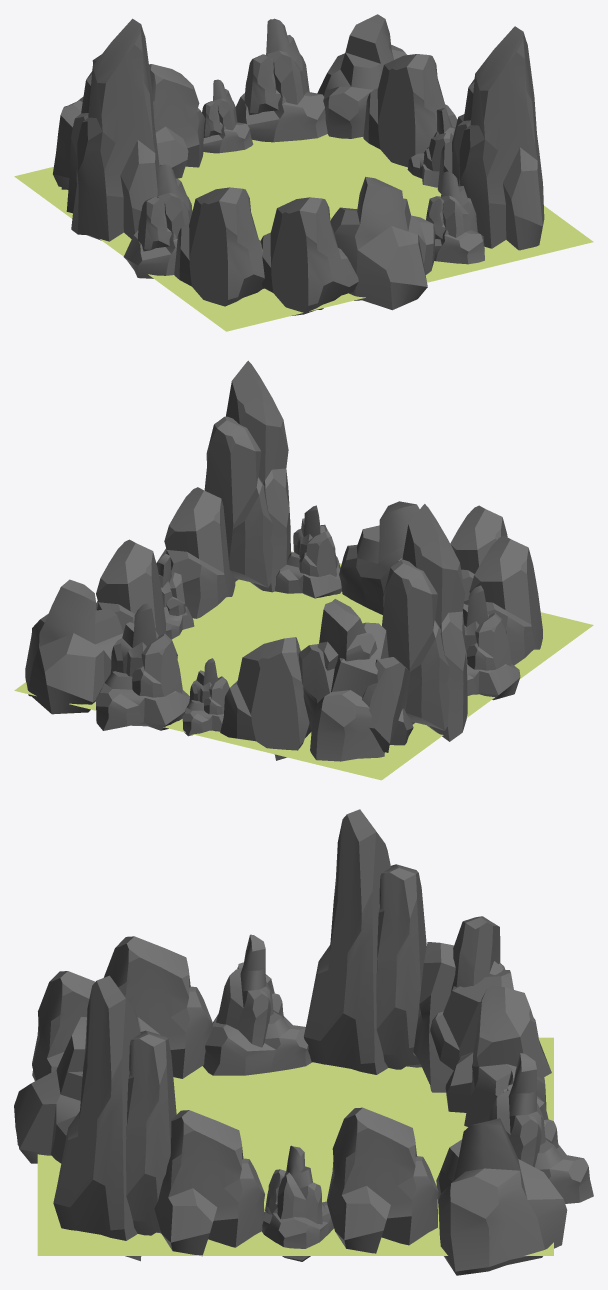
The model's file is ground.glb.
3 views of the same model, one above another, from view 1: azimuth 30°, elevation 25°; view 2: azimuth 150°, elevation 25°; view 3: azimuth 270°, elevation 25° (orthographic). The views are drawn at different scales.
Visible parts, largest first — view 1: Plane, Rock_4.001, Rock_4, Rock_2.001, Rock_1, Rock_1.003, Rock_5.005, Rock_1.002, Rock_2, Rock_1.001, Rock_5, Rock_5.001 (+4 smaller); view 2: Plane, Rock_4.001, Rock_4, Rock_3, Rock_2, Rock_5.005, Rock_1.001, Rock_1.004, Rock_1, Rock_2.001, Rock_5, Rock_1.002 (+4 smaller); view 3: Plane, Rock_4.001, Rock_4, Rock_2, Rock_1.002, Rock_1.004, Rock_3, Rock_5, Rock_1, Rock_1.001, Rock_5.005, Rock_2.001 (+2 smaller).
Boxes of the visible parts, box(x1,y1,x2,y2) form: Plane: box(14, 134, 593, 331); Rock_4.001: box(66, 18, 159, 241); Rock_4: box(452, 26, 544, 250); Rock_2.001: box(330, 176, 435, 310); Rock_1: box(174, 187, 264, 306); Rock_1.003: box(260, 197, 358, 315); Rock_5.005: box(235, 18, 327, 142); Rock_1.002: box(363, 54, 457, 167); Rock_2: box(317, 14, 406, 138); Rock_1.001: box(149, 64, 205, 178); Rock_5: box(123, 164, 192, 278); Rock_5.001: box(426, 171, 484, 264); Plane: box(14, 551, 593, 780); Rock_4.001: box(382, 504, 467, 741); Rock_4: box(204, 360, 290, 592); Rock_3: box(298, 599, 413, 761); Rock_2: box(25, 579, 123, 714); Rock_5.005: box(96, 602, 189, 730); Rock_1.001: box(220, 637, 311, 760); Rock_1.004: box(156, 487, 235, 618); Rock_1: box(467, 535, 542, 665); Rock_2.001: box(339, 501, 419, 614); Rock_5: box(463, 585, 520, 700); Rock_1.002: box(95, 539, 166, 635); Plane: box(37, 1037, 553, 1255); Rock_4.001: box(303, 809, 426, 1074); Rock_4: box(53, 975, 176, 1261); Rock_2: box(436, 1118, 567, 1275); Rock_1.002: box(327, 1107, 438, 1253); Rock_1.004: box(154, 1110, 264, 1256); Rock_3: box(413, 916, 551, 1092); Rock_5: box(203, 934, 312, 1075); Rock_1: box(104, 936, 212, 1078); Rock_1.001: box(445, 985, 546, 1126); Rock_5.005: box(488, 1053, 593, 1203); Rock_2.001: box(14, 1017, 86, 1163).
Bounding box in the file's own units: 134 × 75.57 × 141.
